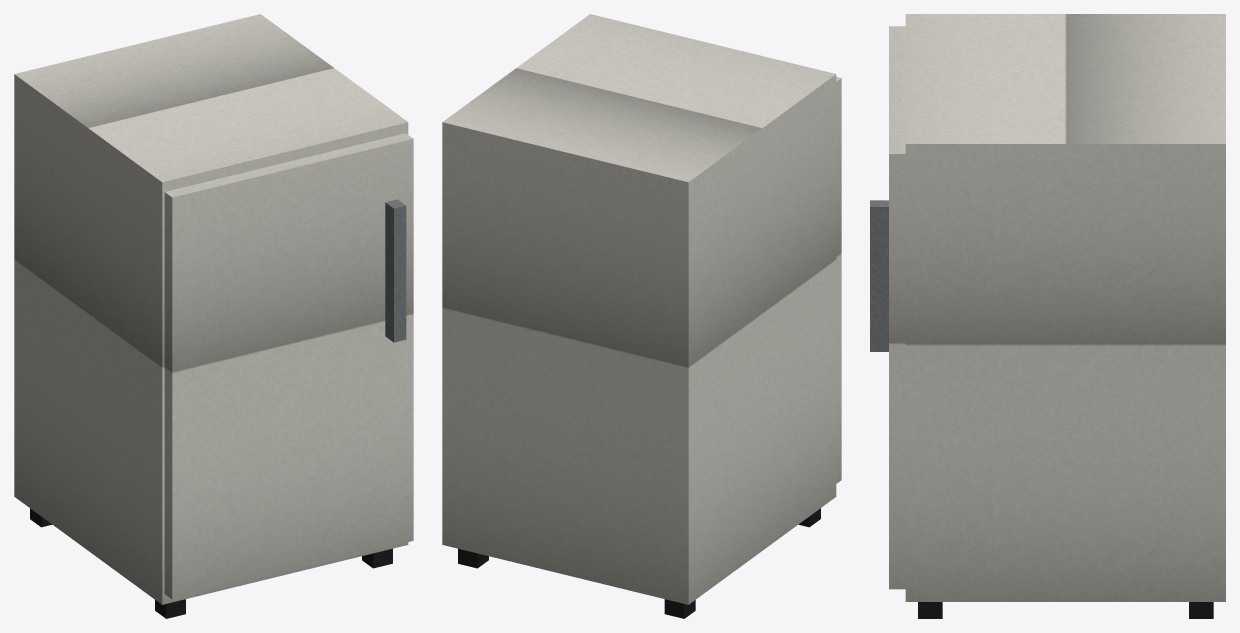
Rendered from SM_OpRoom_MiniFridge.fbx.
3 renders of one model, left to right at view 1: azimuth 30°, elevation 25°; view 2: azimuth 150°, elevation 25°; view 3: azimuth 270°, elevation 25°, orthographic. The views are drawn at different scales.
Parts seen in each view (by area): view 1: MiniFridge; view 2: MiniFridge; view 3: MiniFridge.
Part boxes in pixels (x1,y1,x2,y2): MiniFridge: (14,14,413,618); MiniFridge: (442,14,841,618); MiniFridge: (870,14,1225,618).
Bounding box in the file's own units: 0.5 × 0.86 × 0.5775.
Materials: 3 (3 with a texture image).
